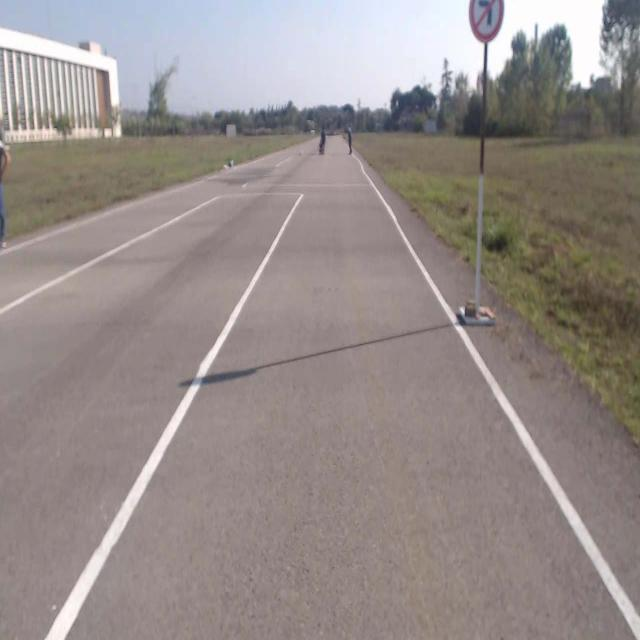soladonulmez: (470, 1, 504, 42)
